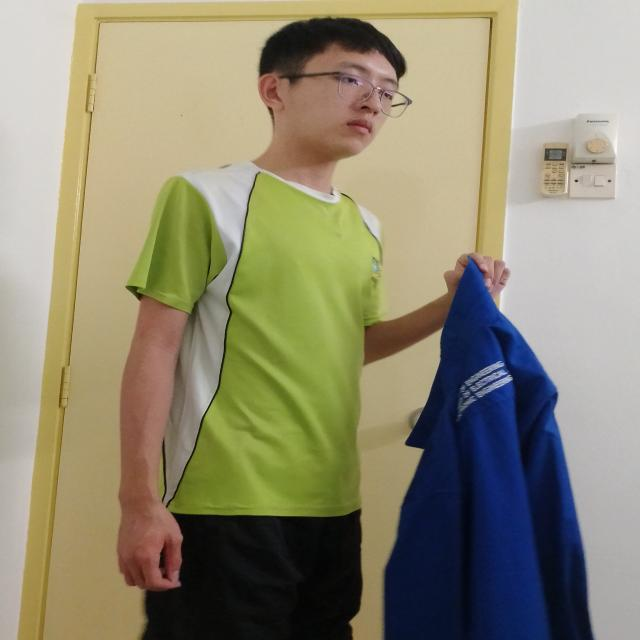person_without_labcoat: (118, 18, 593, 640)
